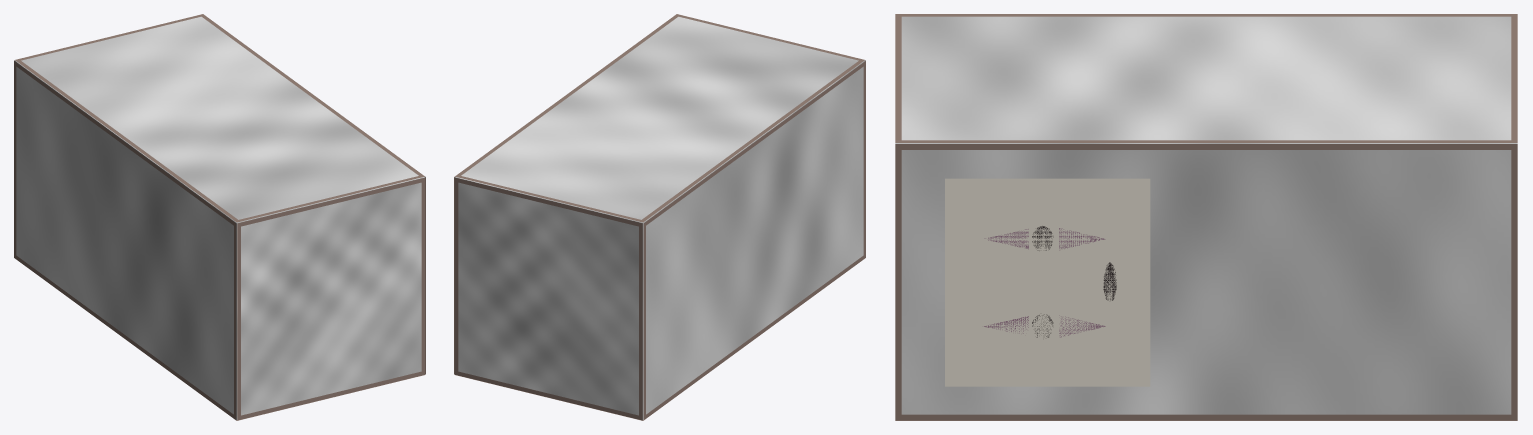
The model's file is noface_whole.obj.
3 renders of one model, left to right at view 1: azimuth 30°, elevation 25°; view 2: azimuth 150°, elevation 25°; view 3: azimuth 270°, elevation 25°, orthographic. The views are drawn at different scales.
Visible parts, largest first — view 1: body, face; view 2: body, face; view 3: body, face.
Boxes of the visible parts, bbox=[...] form: body: bbox=[15, 16, 425, 419]; face: bbox=[14, 14, 425, 420]; body: bbox=[454, 16, 864, 419]; face: bbox=[454, 14, 865, 420]; body: bbox=[895, 16, 1517, 414]; face: bbox=[895, 14, 1517, 420].
Size of the model in its own units: 0.969 by 0.966 by 1.97.
Materials: 5 (1 with a texture image).
